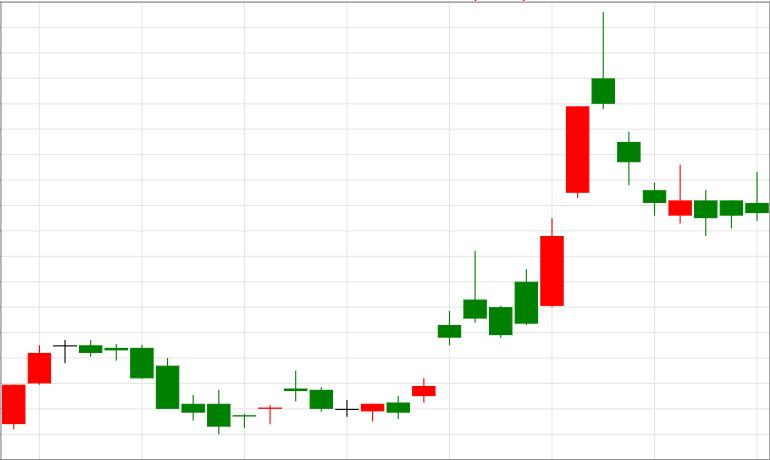shooting_star_fall: (413, 12, 616, 404)
